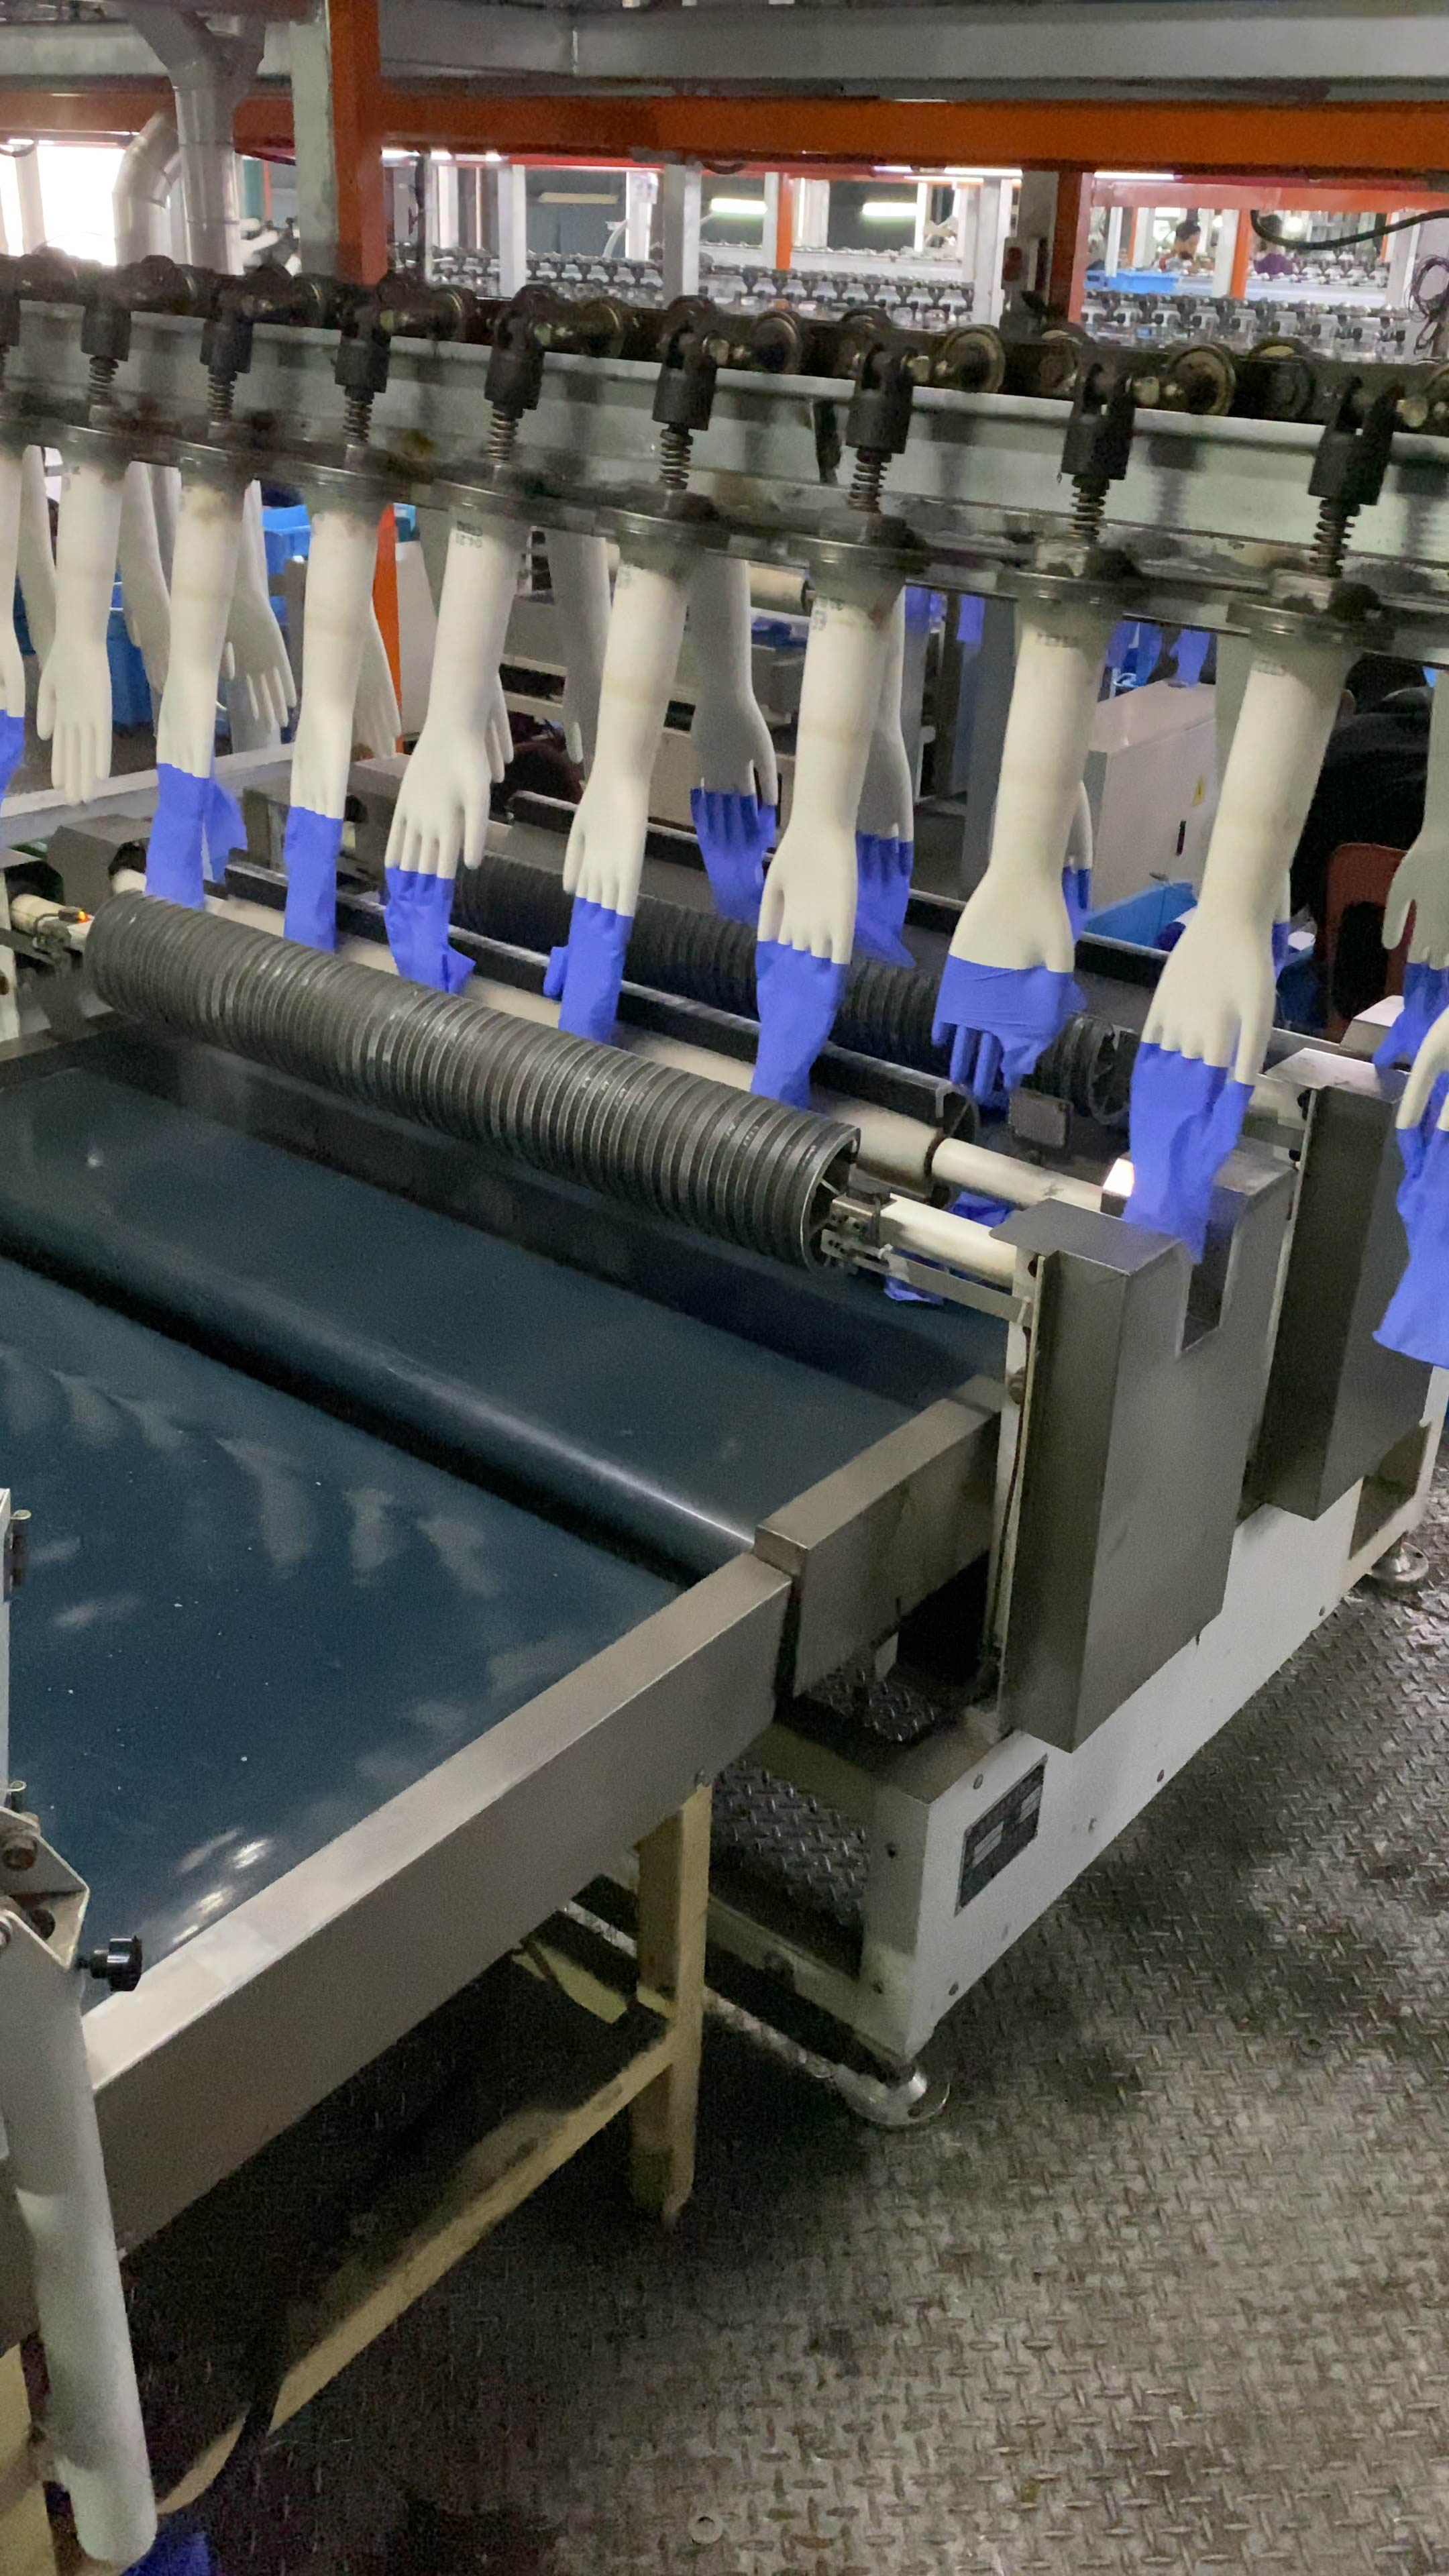glove: (1118, 1040, 1244, 1263), (931, 952, 1085, 1099), (1371, 1127, 1449, 1368), (750, 941, 847, 1111), (143, 761, 246, 909), (543, 897, 633, 1046), (380, 867, 476, 1000), (686, 789, 777, 918), (849, 833, 918, 970), (281, 805, 341, 957), (1371, 962, 1449, 1065)
